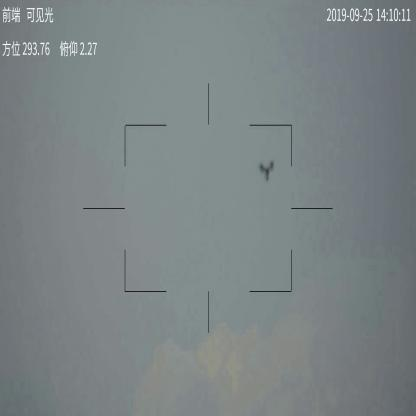uav: (258, 156, 275, 182)
